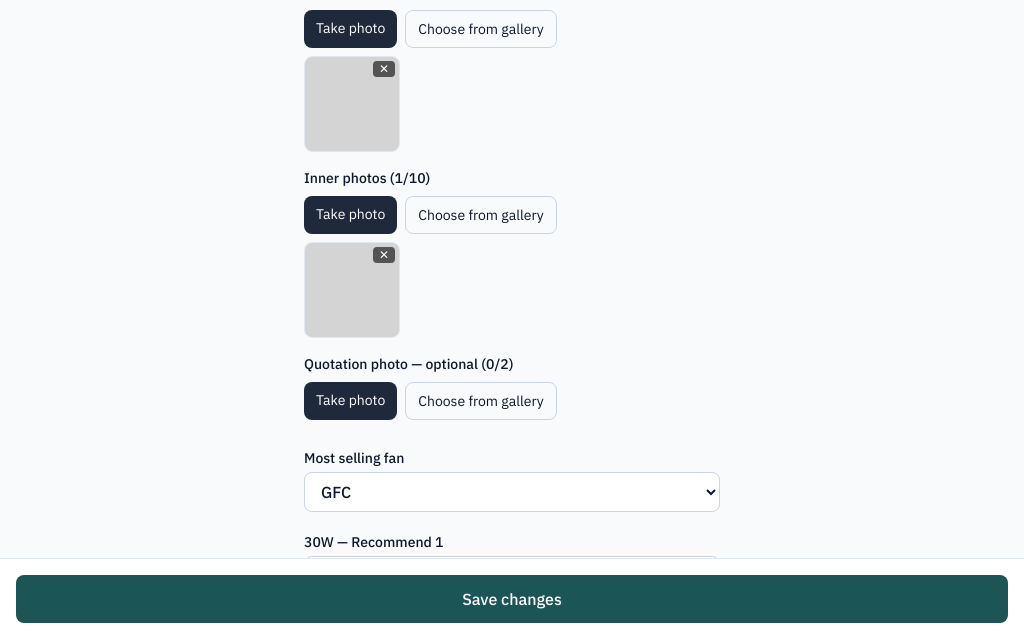
SurveyEditForm › blocks save when the only inner photo is removed
(page scrolled)
Click the button named "remove r1/s1/inner-0.jpg".
click(384, 255)  # box [373,247,395,263]
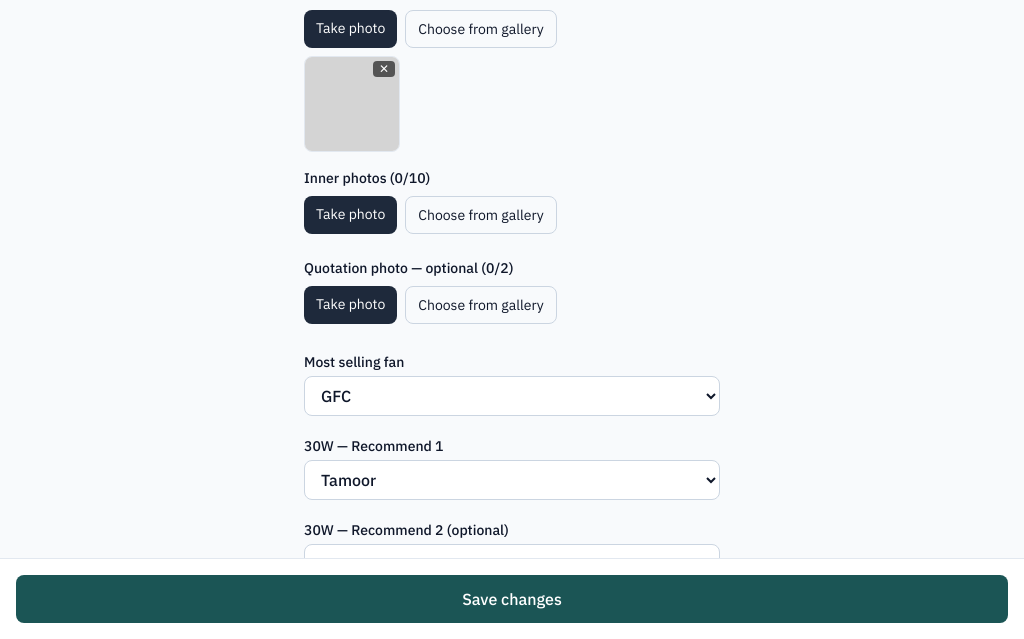
Click the button "Save changes".
click(512, 599)  # box [16,575,1008,623]
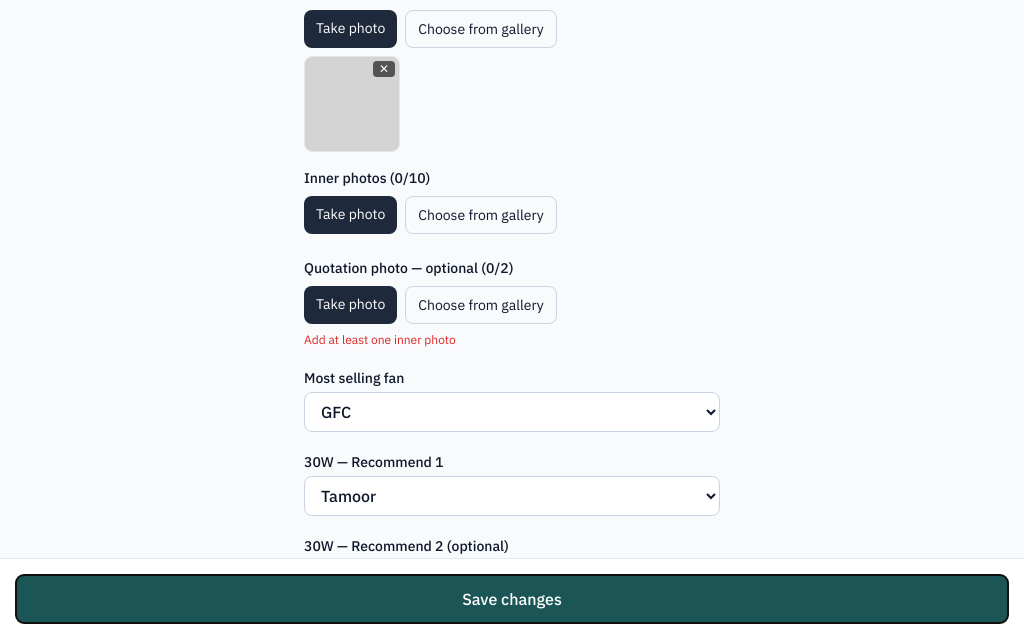
Expected: the text "Add at least one inner photo" is shown, [304,332,456,347]
